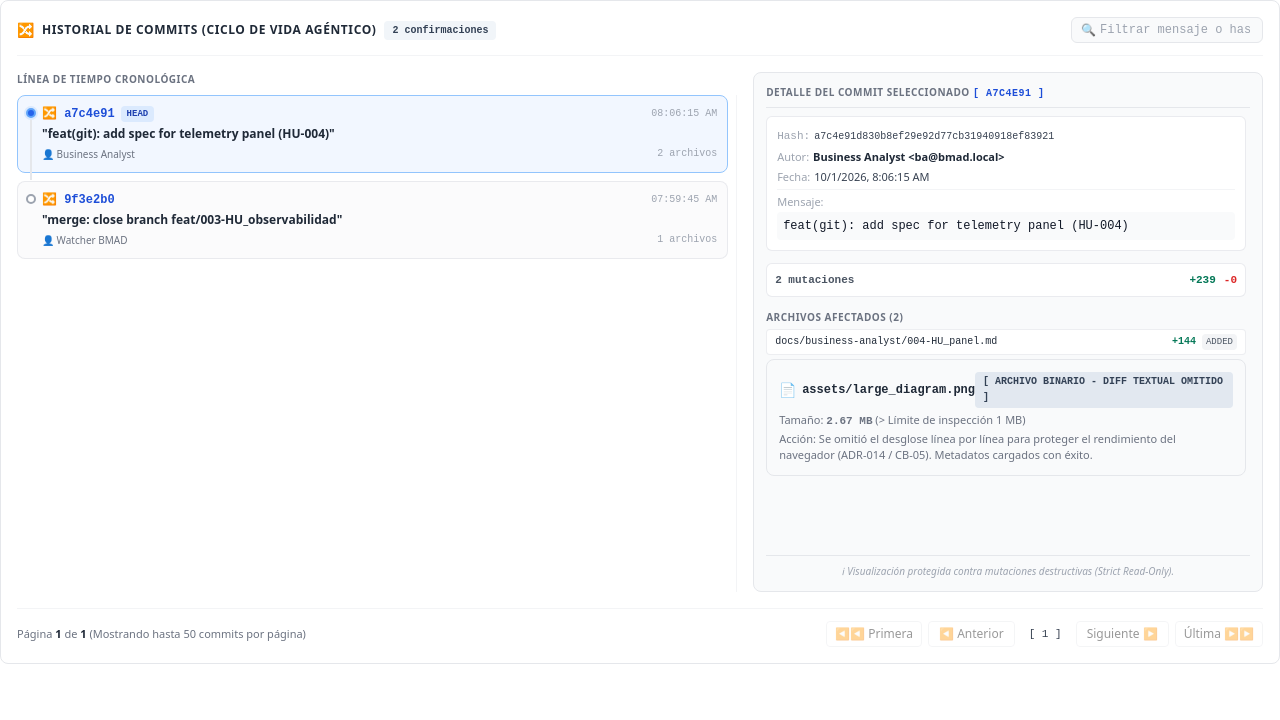
Test: GitCommitTimeline Component › AlFiltrarPorInputDeBusqueda_DebeMostrarSoloCoincidencias
In the field with placeholder "Filtrar mensaje o hash...": (1167, 30) [1071,17,1263,43], type "merge"
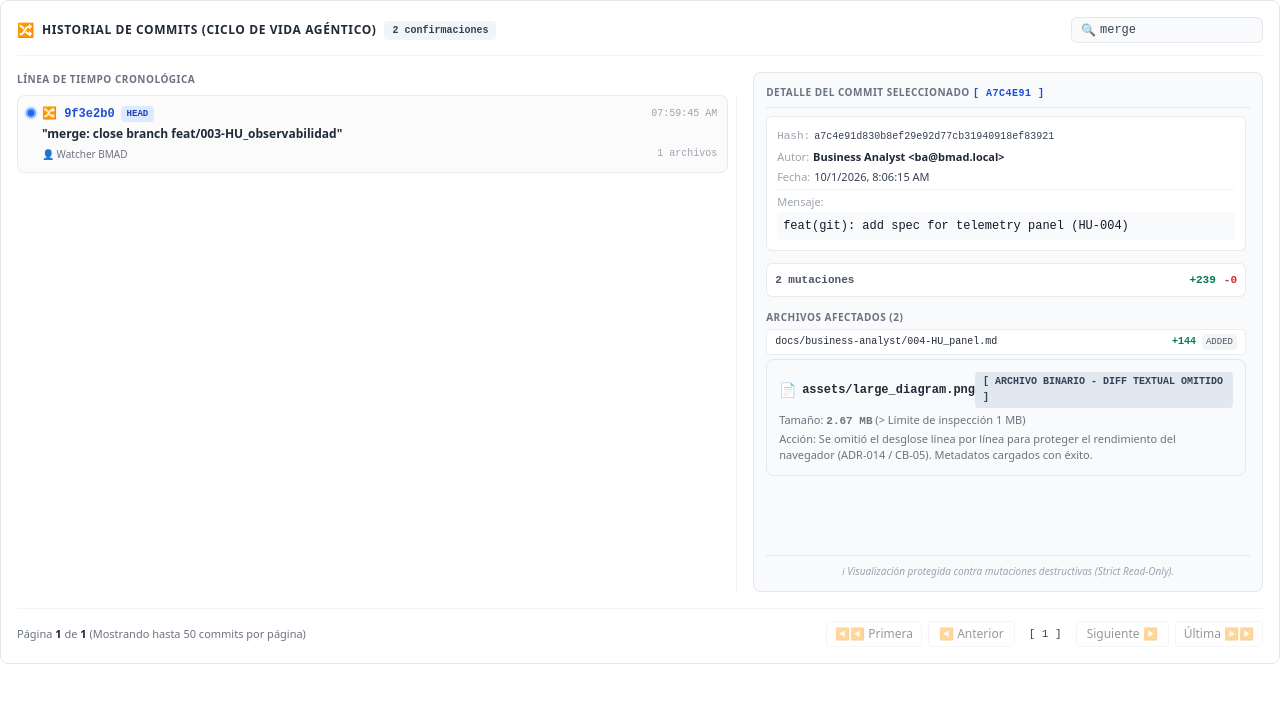
Expected: the text "9f3e2b0" is shown, [42,107,115,121]
Expected: the text "a7c4e91 [HEAD]" is gone
